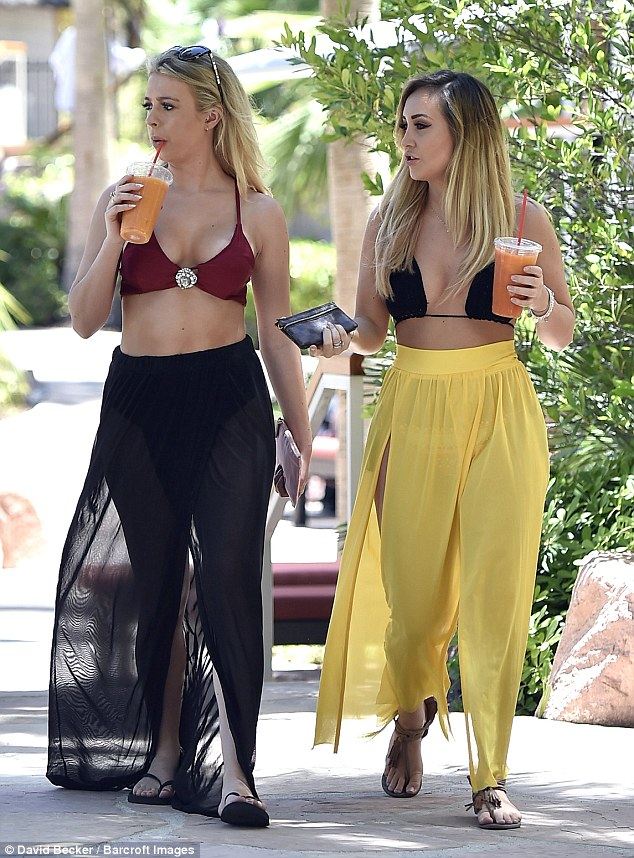Person: (277, 62, 601, 823), (57, 41, 298, 838)
